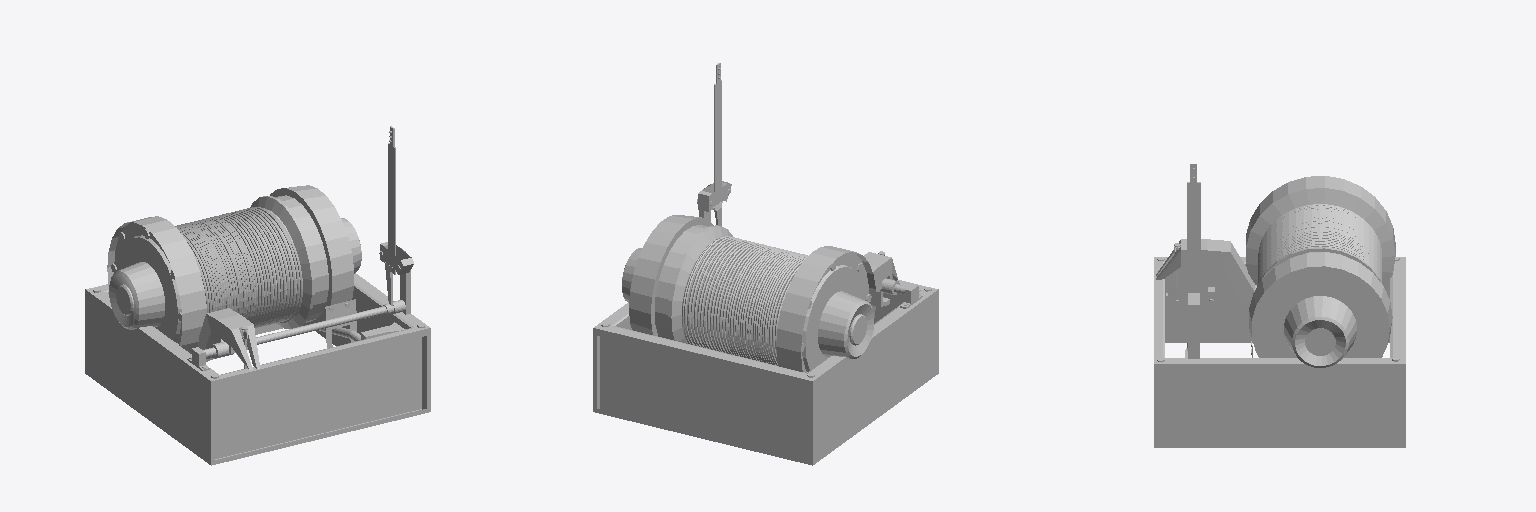
Rendered from makara.obj.
The picture shows the model from 3 angles: view 1: azimuth 30°, elevation 25°; view 2: azimuth 150°, elevation 25°; view 3: azimuth 270°, elevation 25°; orthographic projection.
Parts seen in each view (by area): view 1: Cube_Cube.002, Circle, Cube.006_Cube.008, Circle.001_Circle.002, Cube.001_Cube.005, Plane.002, Cube.002_Cube.001; view 2: Cube_Cube.002, Circle, Cube.001_Cube.005, Cube.006_Cube.008, Cube.002_Cube.001; view 3: Cube_Cube.002, Circle, Cube.006_Cube.008, Cube.001_Cube.005, Cube.003_Cube.004, Cube.002_Cube.001.
Boxes of the visible parts, x1,y1,x2,y2 form: Cube_Cube.002: [85, 273, 430, 465]; Circle: [107, 185, 361, 353]; Cube.006_Cube.008: [197, 308, 259, 370]; Circle.001_Circle.002: [203, 300, 405, 358]; Cube.001_Cube.005: [388, 126, 395, 274]; Plane.002: [325, 299, 356, 347]; Cube.002_Cube.001: [380, 242, 413, 274]; Cube_Cube.002: [593, 280, 938, 465]; Circle: [622, 215, 875, 372]; Cube.001_Cube.005: [714, 63, 721, 211]; Cube.006_Cube.008: [864, 252, 897, 291]; Cube.002_Cube.001: [698, 181, 731, 211]; Cube_Cube.002: [1154, 257, 1405, 447]; Circle: [1246, 176, 1395, 367]; Cube.006_Cube.008: [1156, 239, 1256, 307]; Cube.001_Cube.005: [1187, 164, 1200, 308]; Cube.003_Cube.004: [1188, 293, 1199, 358]; Cube.002_Cube.001: [1168, 287, 1214, 310].
Bounding box in the file's own units: 5.86 × 6.8 × 5.63.